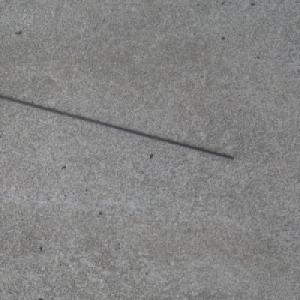LuggagePart: (0, 94, 235, 161)
